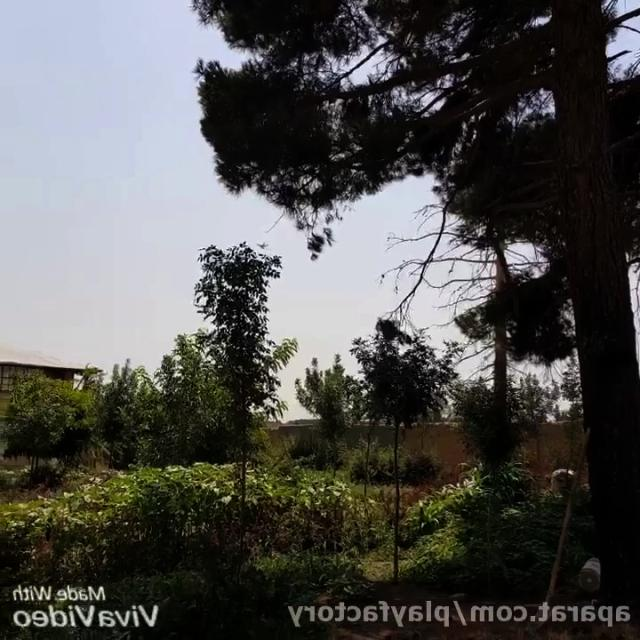drone: (250, 234, 274, 252)
